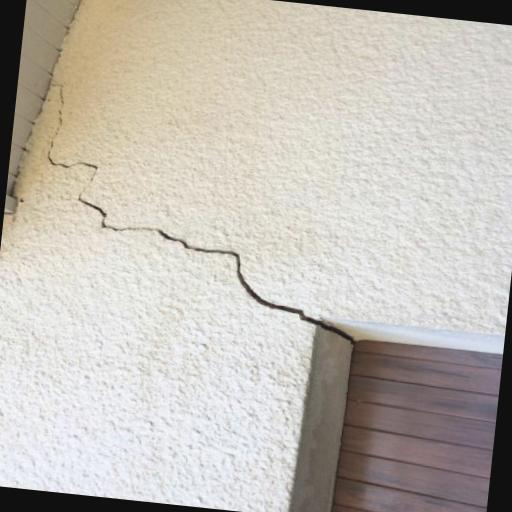spalling: (36, 88, 358, 348)
